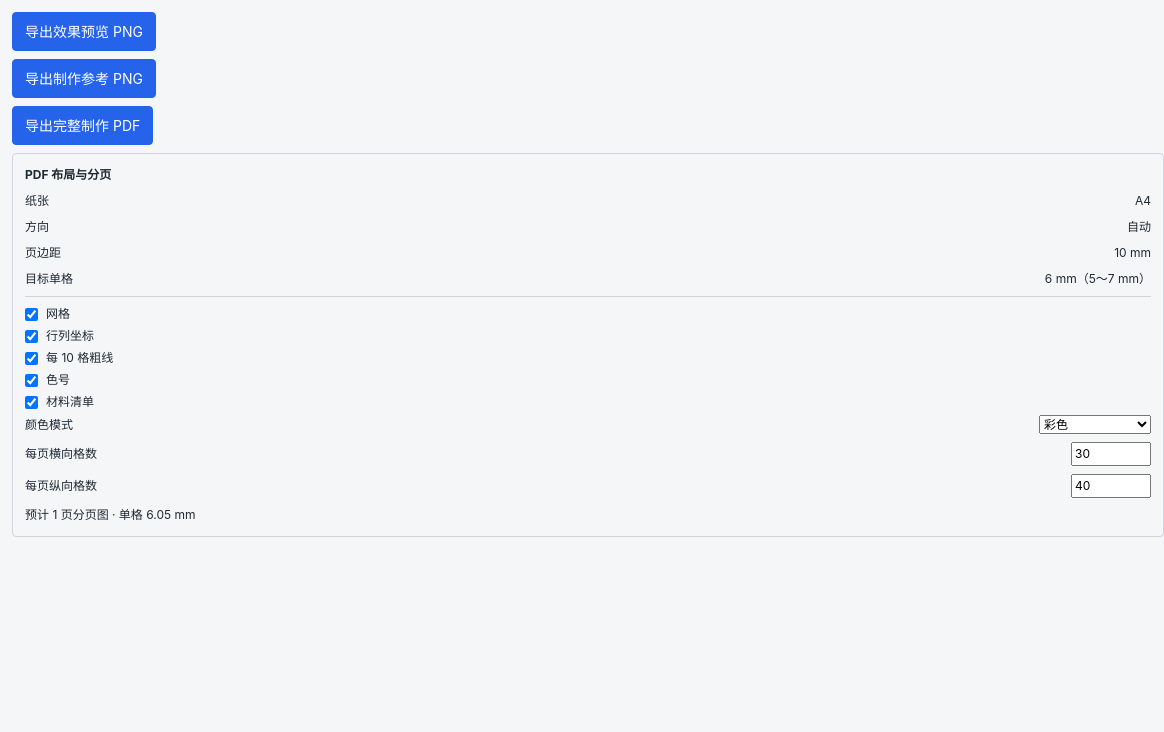
Test: TASK-078 export actions component › shows an observable error and restores the button after export fails
What coordinates should you click on to do the following:
click the button with test id "export-effect-preview-png"
I would click on:
 (84, 32)
Its box is [12,12,156,51].
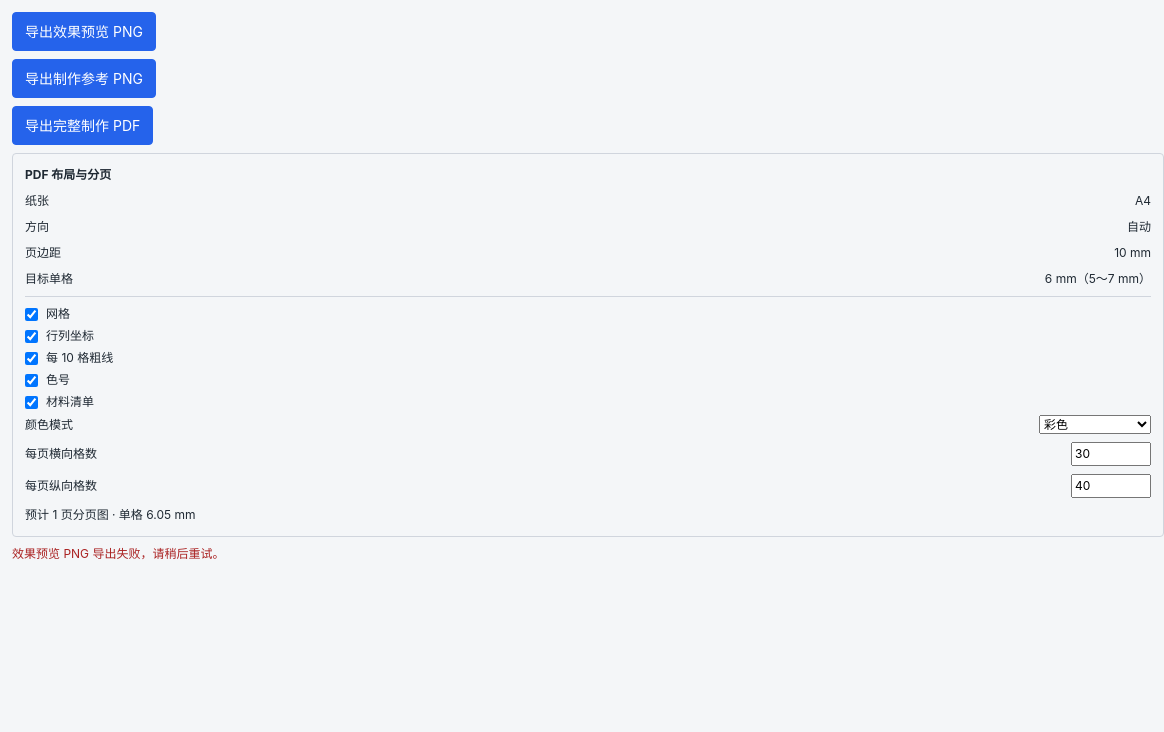
expect the message with test id "export-error" shows "导出失败": met, box [12,546,224,561]
